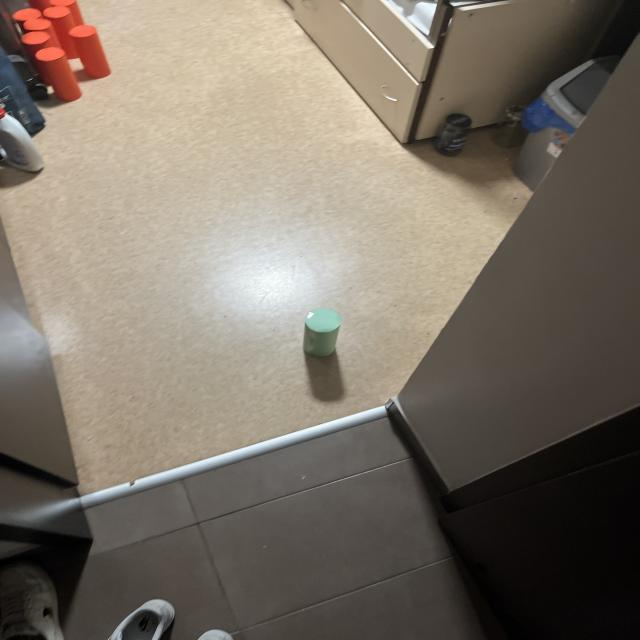meta: (303, 308, 341, 357)
